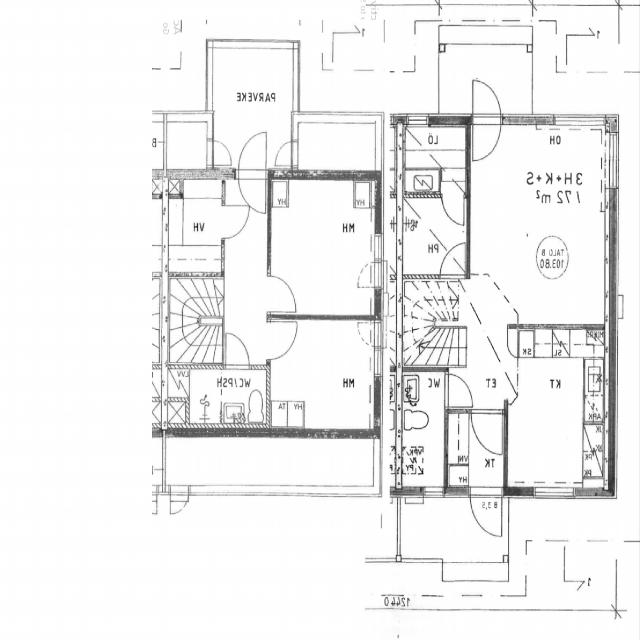door: (471, 486, 502, 540), (471, 409, 503, 456), (473, 114, 502, 162), (473, 77, 502, 124), (239, 133, 265, 180), (239, 169, 265, 215), (266, 276, 296, 312), (266, 322, 296, 358), (440, 241, 465, 279), (226, 332, 250, 370), (444, 375, 472, 406), (222, 206, 249, 238), (170, 485, 190, 521), (443, 192, 464, 226), (206, 141, 233, 165), (272, 142, 298, 166)
